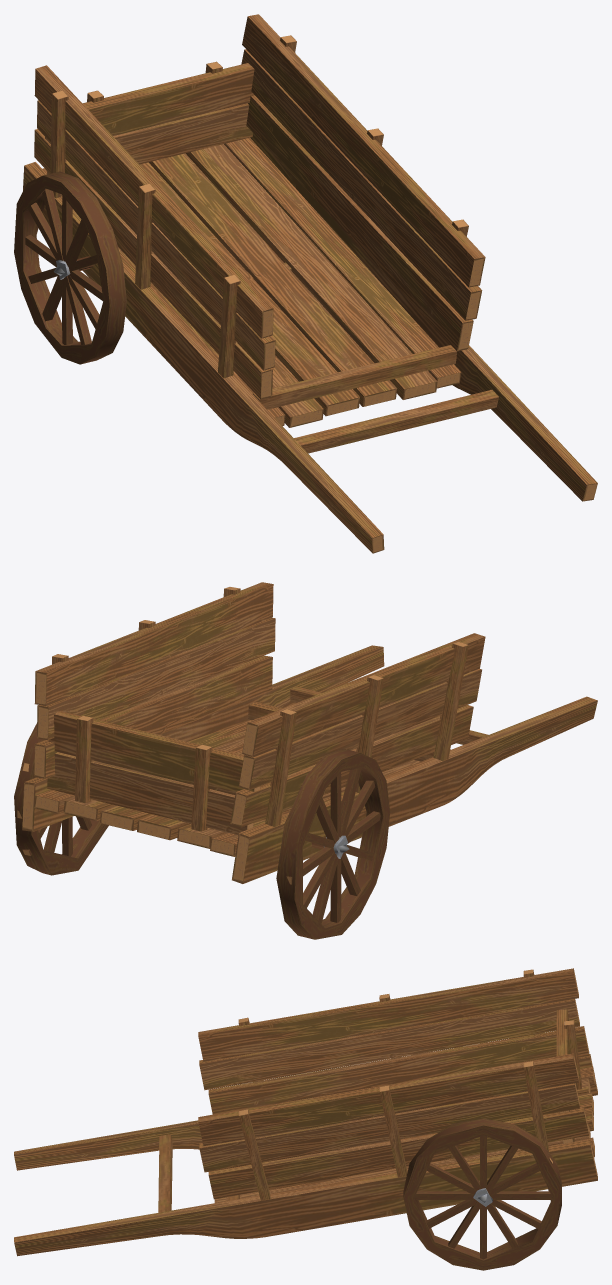
Rendered from carroca.glb.
3 views of the same model, one above another, from view 1: azimuth 30°, elevation 25°; view 2: azimuth 150°, elevation 25°; view 3: azimuth 270°, elevation 25° (orthographic). The views are drawn at different scales.
Parts seen in each view (by area): view 1: Prop_Wagon; view 2: Prop_Wagon; view 3: Prop_Wagon.
Boxes of the visible parts, <box> form: Prop_Wagon: <box>14,14,597,553</box>; Prop_Wagon: <box>14,582,597,939</box>; Prop_Wagon: <box>14,968,597,1270</box>.
Bounding box in the file's own units: 1.95 × 1.53 × 4.02.
1 material, 1 textured.
